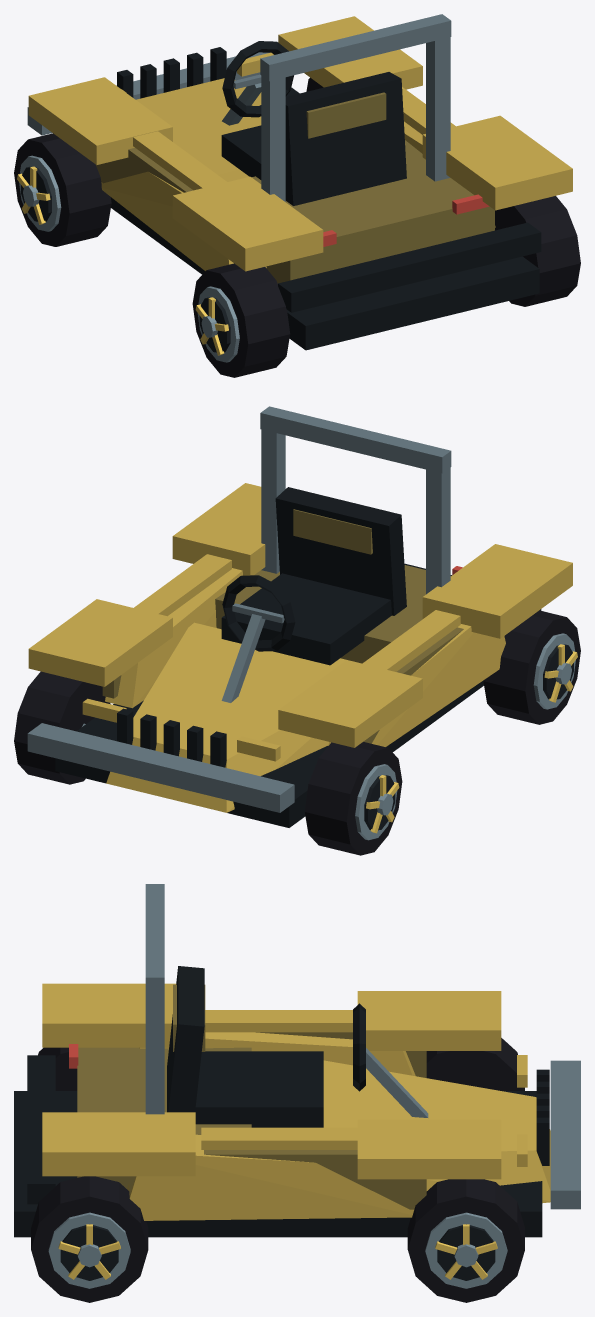
The model's file is kart.glb.
The picture shows the model from 3 angles, top to bottom: view 1: azimuth 30°, elevation 25°; view 2: azimuth 150°, elevation 25°; view 3: azimuth 270°, elevation 25°; orthographic projection. The views are drawn at different scales.
Parts seen in each view (by area): view 1: chassis, wheel-rear-left, wheel-front-left, wheel-rear-right; view 2: chassis, wheel-front-left, wheel-rear-left, wheel-front-right; view 3: chassis, wheel-rear-right, wheel-front-right, wheel-front-left, wheel-rear-left.
Part boxes in pixels (<box>): chassis: <box>27,14,572,350</box>; wheel-rear-left: <box>192,263,290,377</box>; wheel-front-left: <box>14,133,111,246</box>; wheel-rear-right: <box>495,196,580,306</box>; chassis: <box>27,406,572,827</box>; wheel-front-left: <box>304,741,402,855</box>; wheel-rear-left: <box>483,610,580,724</box>; wheel-front-right: <box>14,671,110,784</box>; chassis: <box>14,884,580,1237</box>; wheel-rear-right: <box>31,1176,148,1302</box>; wheel-front-right: <box>407,1179,524,1302</box>; wheel-front-left: <box>426,1038,524,1090</box>; wheel-rear-left: <box>38,1047,77,1090</box>.
Size of the model in its own units: 2.31 by 1.67 by 3.
